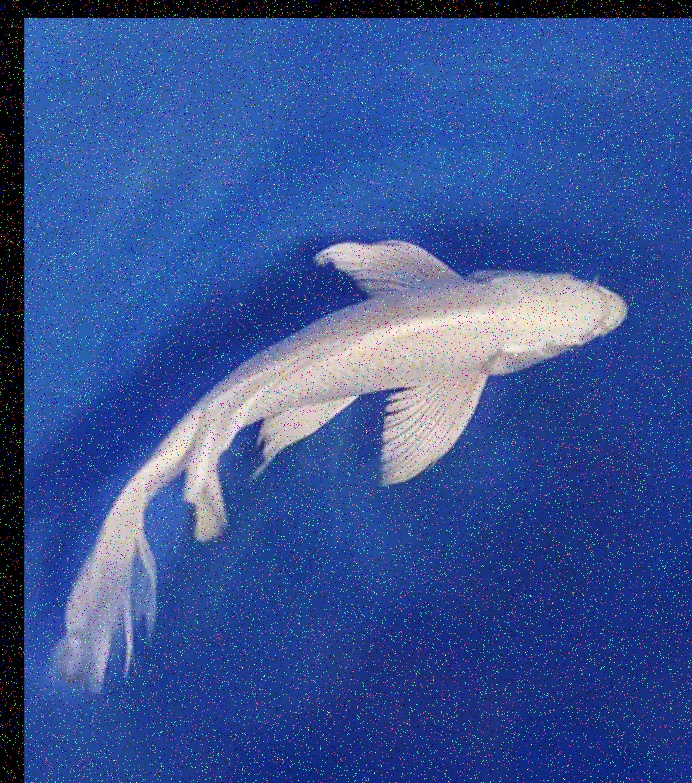fry: (36, 188, 640, 695)
